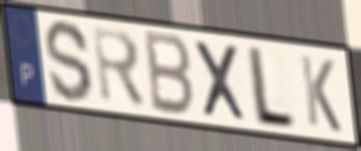B: (143, 28, 197, 120)
K: (298, 52, 344, 135)
L: (247, 44, 298, 133)
R: (90, 23, 149, 112)
S: (42, 17, 95, 105)
X: (191, 37, 250, 125)
